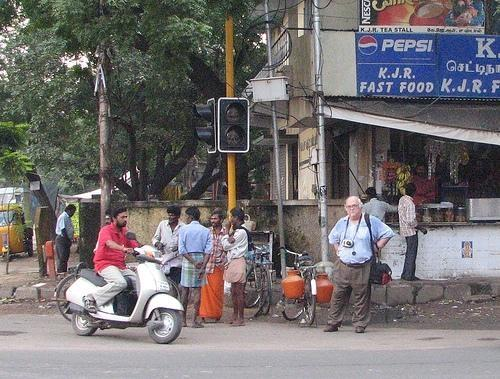bicycle: (277, 246, 318, 326), (244, 245, 272, 314)
motorcycle: (62, 244, 185, 343)
